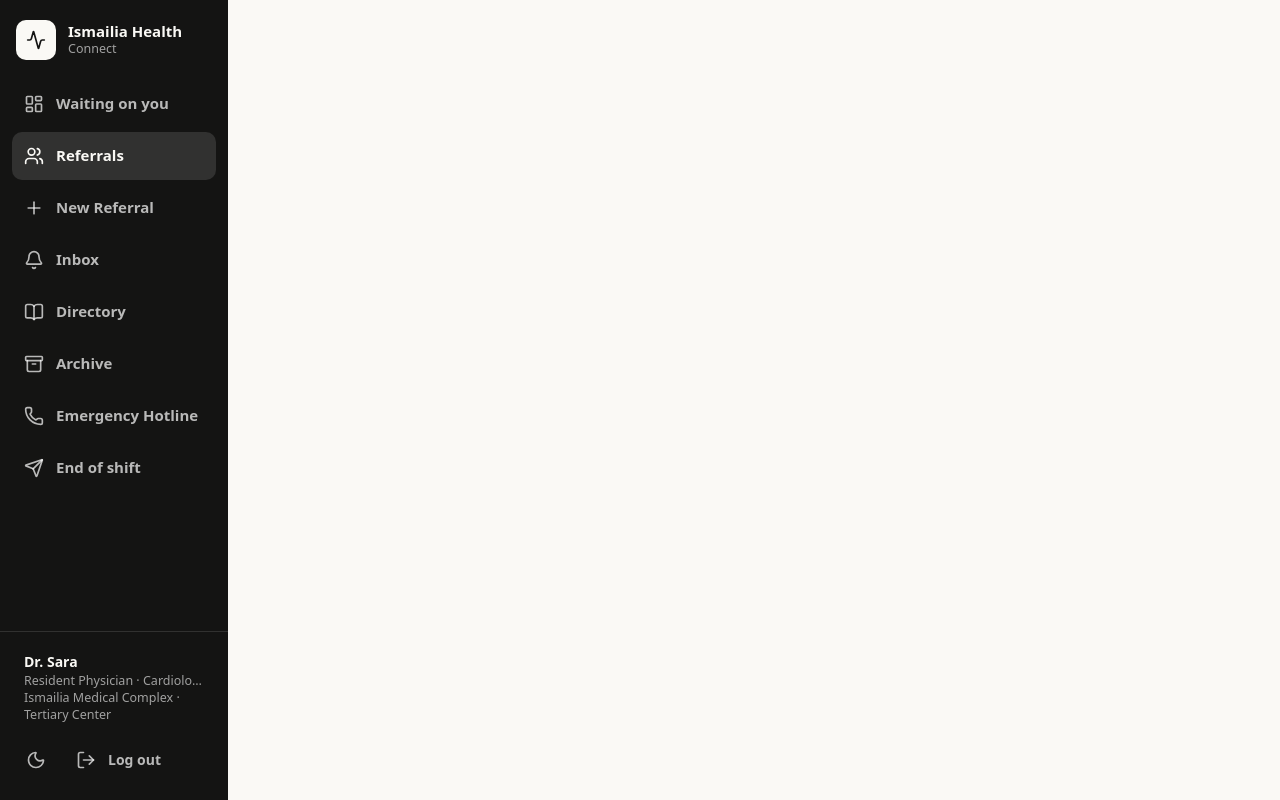
Test: AppLayout › end-of-shift handover › carries a manager-approved case over (still waiting), and names the shift and the next one
The image size is (1280, 800).
Click the button "End of shift".
click(114, 468)  # box 12,444 -> 216,492
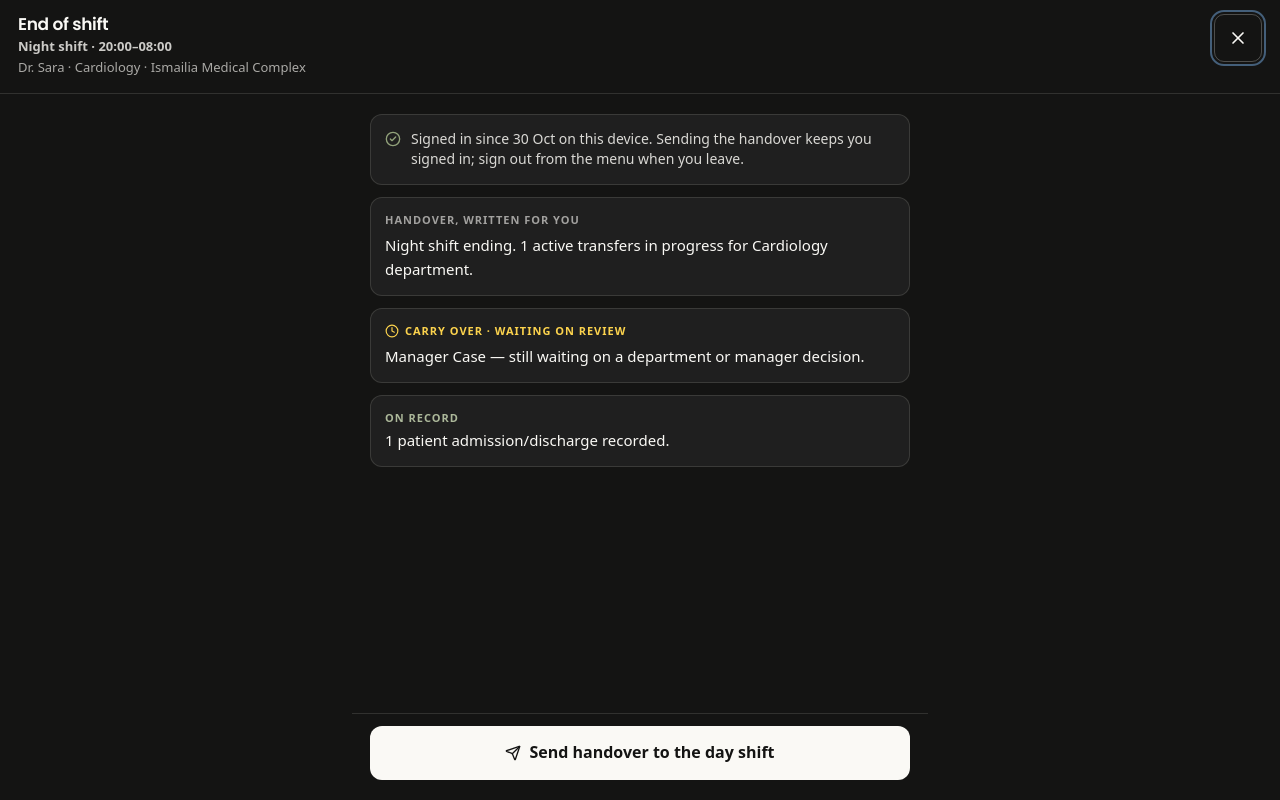
Check: the text "Manager Case — still waiting" is shown, box 385,346 -> 864,366
Check: the text "Send handover to the day shift" is shown, box 530,741 -> 775,765
